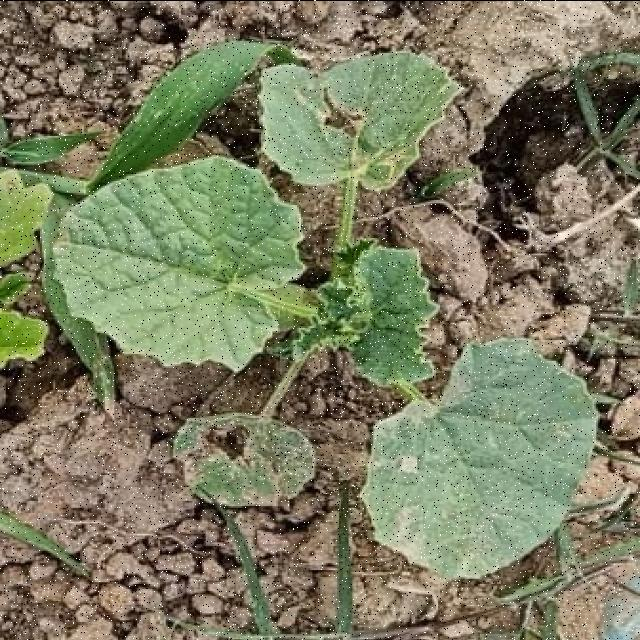plant: (52, 41, 436, 505), (362, 339, 597, 576), (263, 51, 458, 245)
